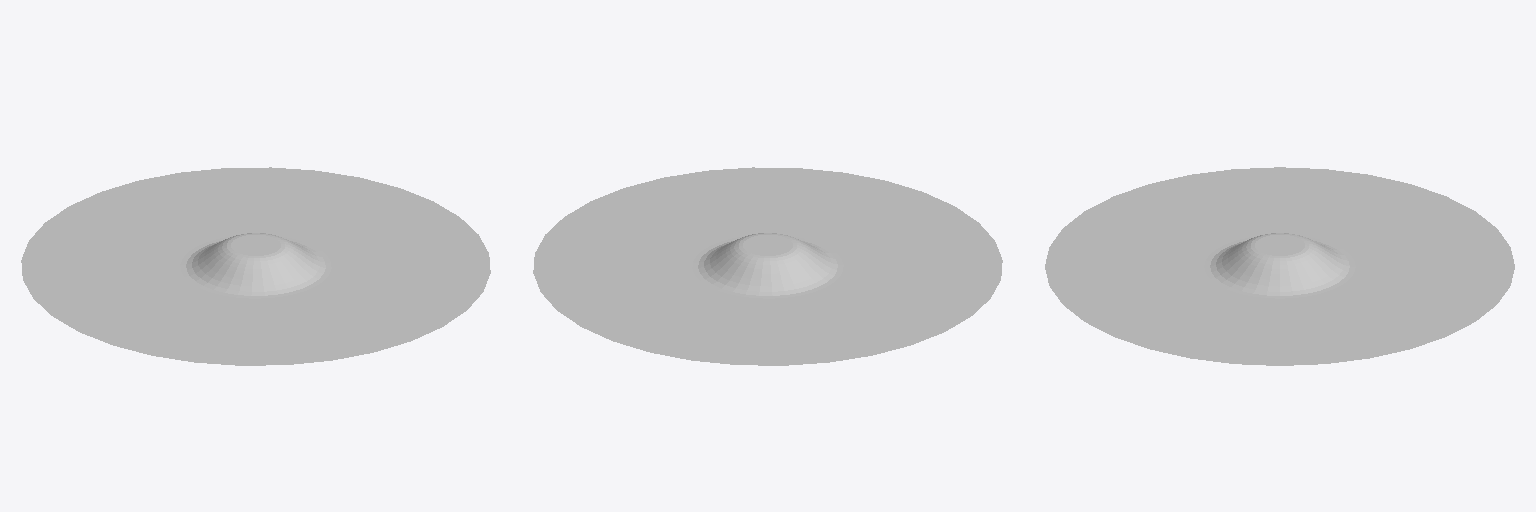
Rendered from little-isle.obj.
The picture shows the model from 3 angles: view 1: azimuth 30°, elevation 25°; view 2: azimuth 150°, elevation 25°; view 3: azimuth 270°, elevation 25°; orthographic projection.
Visible parts, largest first — view 1: Isle_Circle.001; view 2: Isle_Circle.001; view 3: Isle_Circle.001.
Boxes of the visible parts, box(x1,y1,x2,y2) form: Isle_Circle.001: box(21, 167, 490, 365); Isle_Circle.001: box(533, 167, 1002, 365); Isle_Circle.001: box(1045, 167, 1514, 365).
Size of the model in its own units: 100 by 5 by 100.